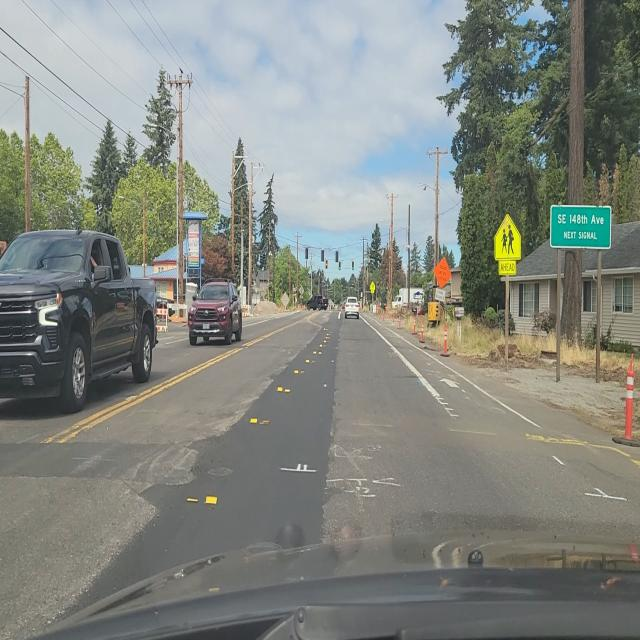car: (0, 228, 158, 412), (189, 278, 243, 346), (306, 292, 329, 315), (345, 296, 361, 324)
crosswalk-sign: (494, 215, 522, 278), (370, 282, 376, 296)
delineator: (621, 354, 636, 441), (441, 315, 448, 356), (419, 318, 426, 347), (413, 310, 417, 335), (398, 308, 402, 328), (407, 309, 411, 328), (392, 308, 395, 324), (380, 306, 383, 318)
